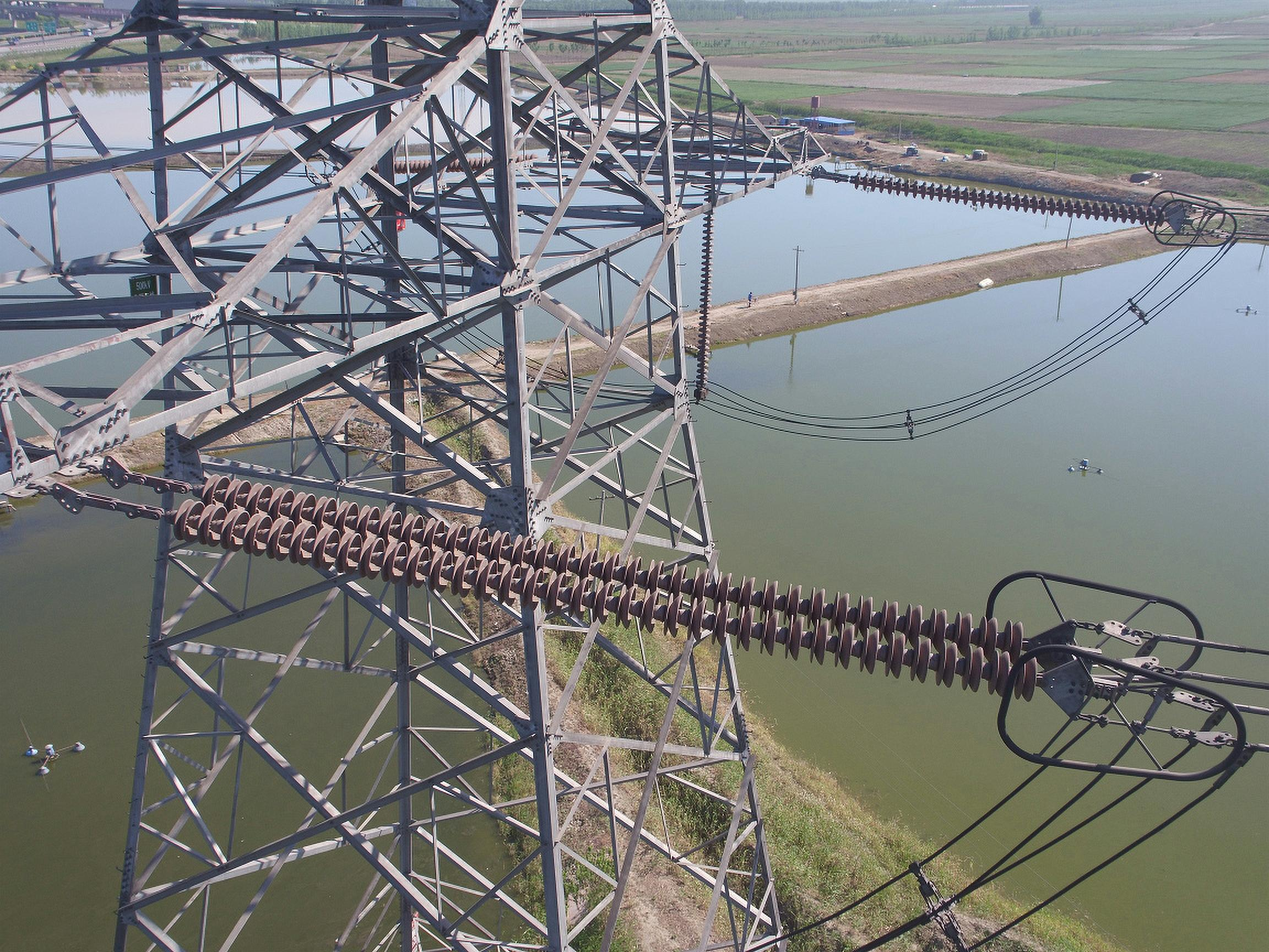insulator: (165, 470, 1043, 704), (852, 170, 1168, 228), (693, 207, 718, 390), (393, 152, 539, 175)
